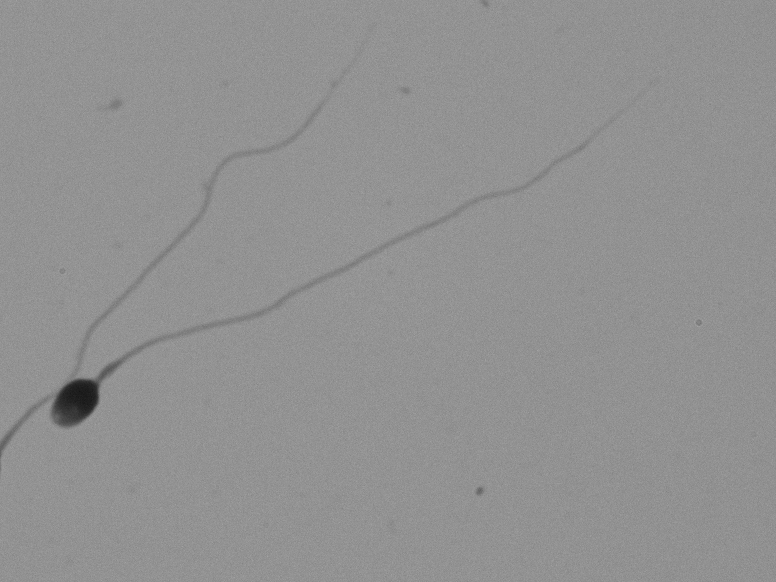Normal: (28, 72, 727, 449)
